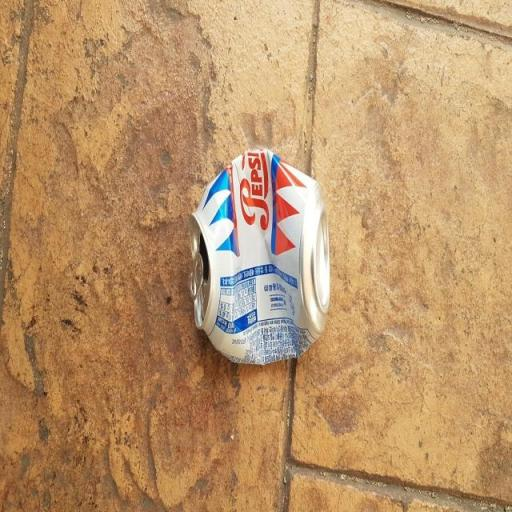metal: (166, 120, 362, 396)
